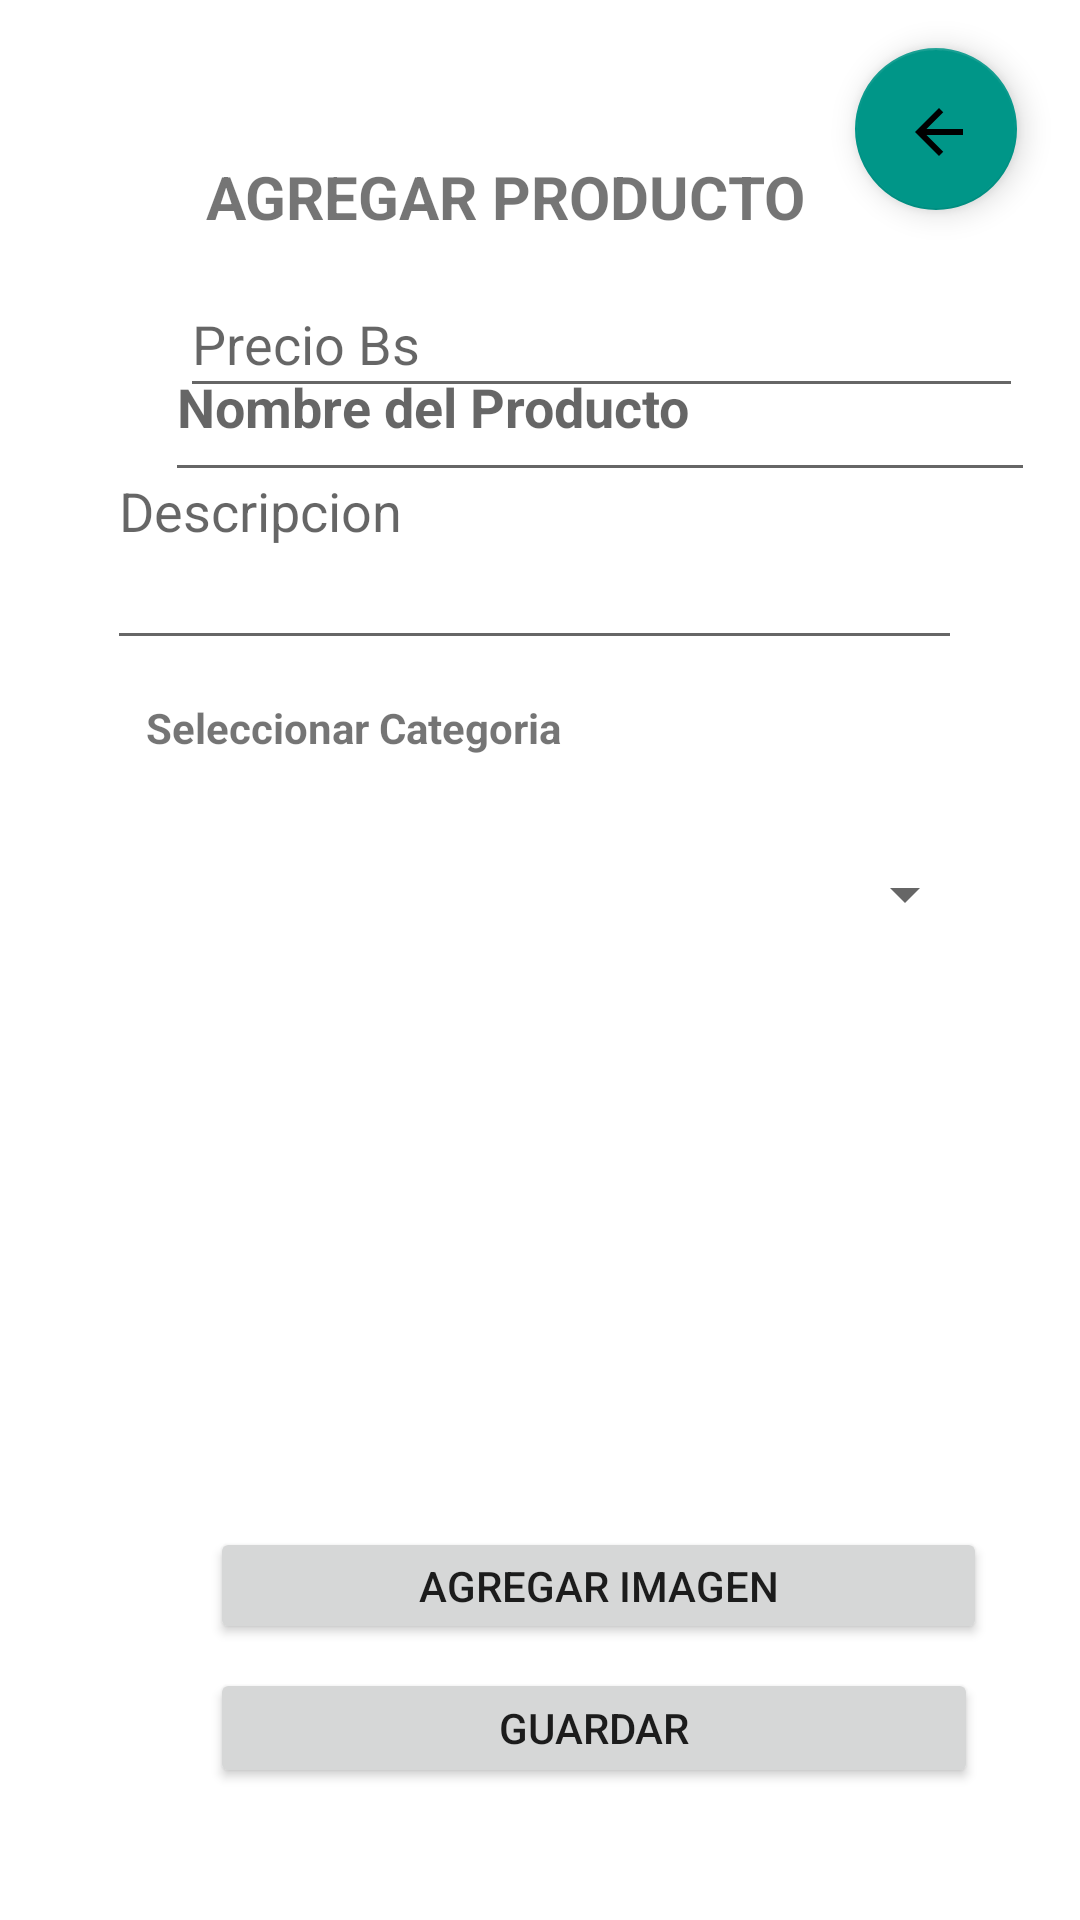

Screen size 1080 x 1920. Icon name, then its center in pixels as point (x, y):
back: point (936, 129)
